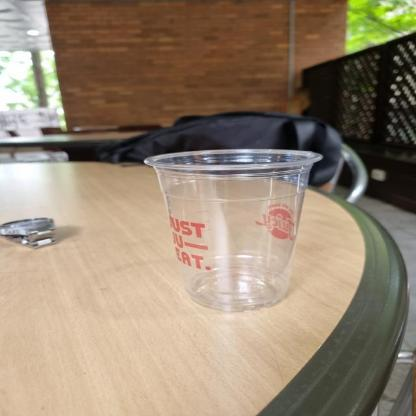Plastic Cup: (142, 149, 320, 313)
